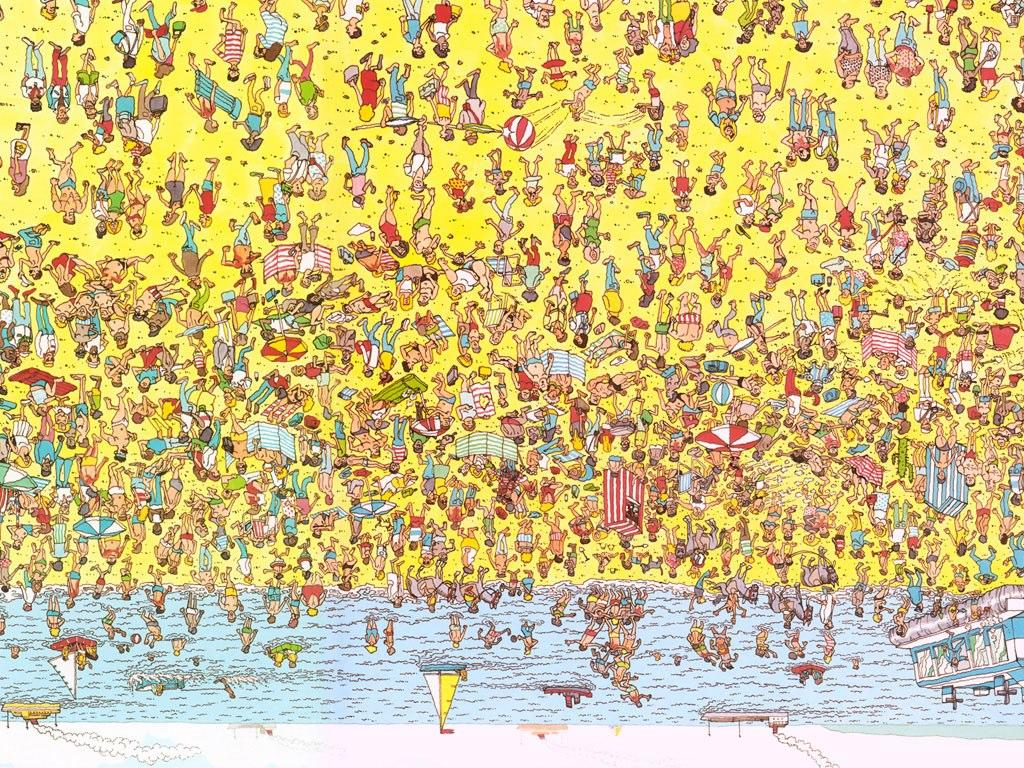waldos: (491, 458, 525, 506)
